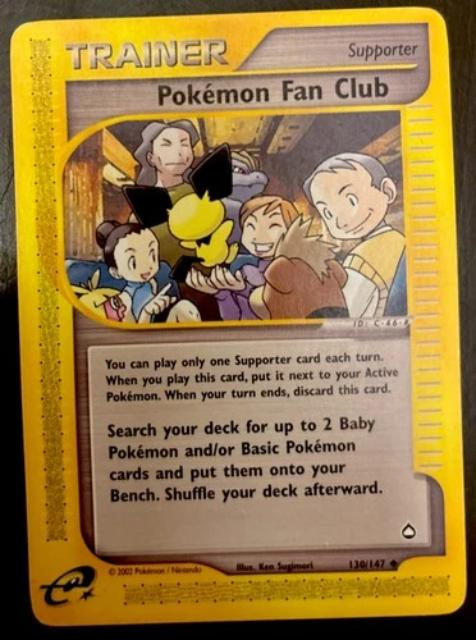Card: (6, 3, 473, 630)
Name: (150, 69, 402, 113)
